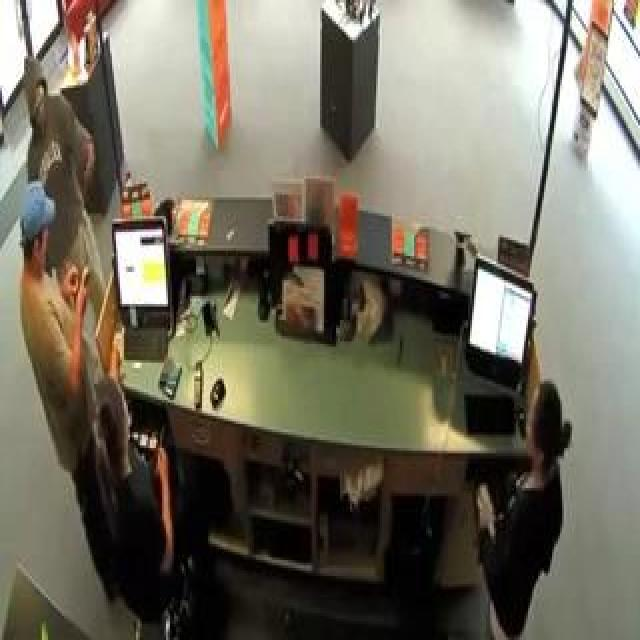high_con: (17, 55, 60, 137)
low_con: (13, 186, 54, 275)
no_con: (521, 373, 574, 488), (86, 366, 135, 486)
